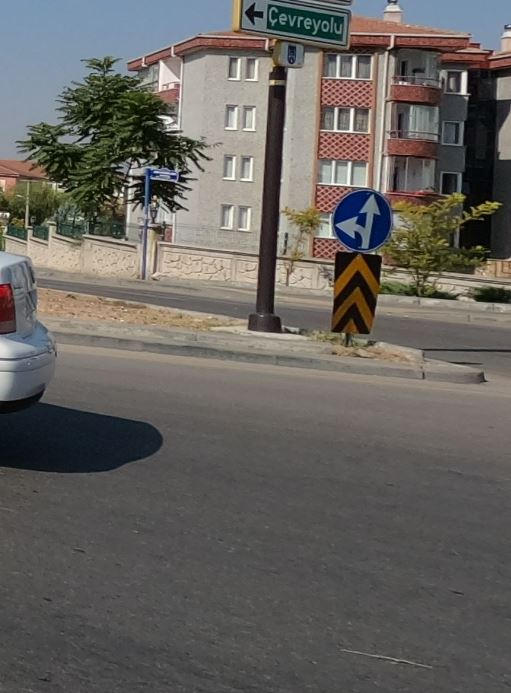ileri ve Sola Mecburi Don: (330, 190, 395, 252)
